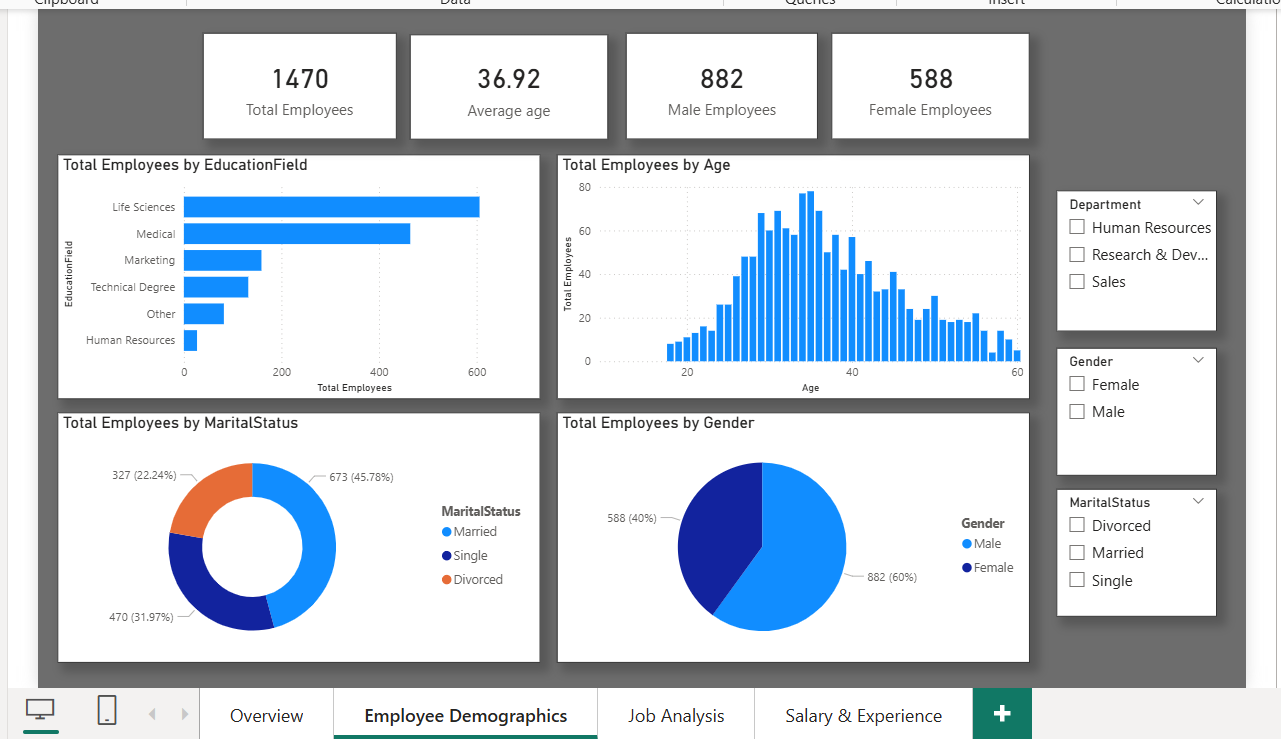

This screenshot's page, from the dashboard's own definition file:
{"tool":"powerbi","page":{"name":"Employee Demographics","canvas":[1280,720],"ordinal":1},"visuals":[{"type":"clusteredBarChart","fields":{"Category":["HR Data.EducationField"],"Y":["Dax Measures.Total Employees"]},"box":[20.7,154.3,512.2,259.3],"z":0},{"type":"donutChart","fields":{"Category":["HR Data.MaritalStatus"],"Y":["Dax Measures.Total Employees"]},"box":[20.7,427.9,512.2,265.6],"z":1000},{"type":"clusteredColumnChart","fields":{"Category":["HR Data.Age"],"Y":["Dax Measures.Total Employees"]},"box":[550.4,154.3,501,259.3],"z":2000},{"type":"pieChart","fields":{"Category":["HR Data.Gender"],"Y":["Dax Measures.Total Employees"]},"box":[550.4,427.9,501,265.6],"z":3000},{"type":"card","fields":{"Values":["Dax Measures.Total Employees"]},"box":[175,25.4,205.2,112.9],"z":4000},{"type":"card","fields":{"Values":["Dax Measures.Average age"]},"box":[394.5,27,210,111.3],"z":5000},{"type":"card","fields":{"Values":["Dax Measures.Male Employees"]},"box":[623.5,25.4,203.6,112.9],"z":6000},{"type":"card","fields":{"Values":["Dax Measures.Female Employees"]},"box":[841.4,25.4,210,112.9],"z":7000},{"type":"slicer","fields":{"Values":["HR Data.Department"]},"box":[1080,192.5,170.2,149.5],"z":8000},{"type":"slicer","fields":{"Values":["HR Data.Gender"]},"box":[1080,359.5,170.2,135.2],"z":9000},{"type":"slicer","fields":{"Values":["HR Data.MaritalStatus"]},"box":[1080,509,170.2,135.2],"z":10000}]}

Visuals, with their boxes on the page's 1280x720 design canvas (x1, y1, x2, y2). These are canvas units, not pixel positions in the 1281x739 screenshot, which may show the page scaled, cropped or inside an application window:
clusteredBarChart - HR Data.EducationField x Dax Measures.Total Employees: x1=21, y1=154, x2=533, y2=414
donutChart - HR Data.MaritalStatus x Dax Measures.Total Employees: x1=21, y1=428, x2=533, y2=694
clusteredColumnChart - HR Data.Age x Dax Measures.Total Employees: x1=550, y1=154, x2=1051, y2=414
pieChart - HR Data.Gender x Dax Measures.Total Employees: x1=550, y1=428, x2=1051, y2=694
card - Dax Measures.Total Employees: x1=175, y1=25, x2=380, y2=138
card - Dax Measures.Average age: x1=394, y1=27, x2=604, y2=138
card - Dax Measures.Male Employees: x1=624, y1=25, x2=827, y2=138
card - Dax Measures.Female Employees: x1=841, y1=25, x2=1051, y2=138
slicer - HR Data.Department: x1=1080, y1=192, x2=1250, y2=342
slicer - HR Data.Gender: x1=1080, y1=360, x2=1250, y2=495
slicer - HR Data.MaritalStatus: x1=1080, y1=509, x2=1250, y2=644
